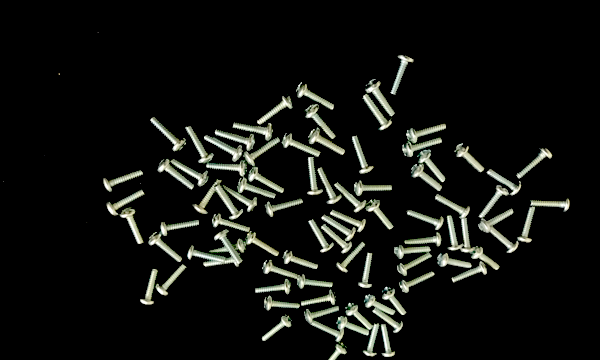shortscrew: (150, 117, 188, 152), (516, 145, 554, 179), (295, 81, 336, 112), (148, 229, 184, 264), (157, 158, 195, 191), (256, 94, 295, 126), (243, 135, 283, 166), (303, 103, 336, 140), (104, 189, 146, 218), (362, 94, 394, 132), (365, 78, 396, 117), (185, 126, 215, 166), (170, 159, 211, 188), (213, 184, 244, 221), (389, 52, 415, 96), (204, 134, 244, 162), (416, 148, 447, 184), (155, 263, 187, 297), (193, 178, 223, 214), (282, 131, 322, 158), (216, 125, 256, 152), (408, 163, 444, 193), (479, 184, 509, 220), (309, 127, 346, 156), (245, 229, 281, 258), (487, 169, 524, 197), (335, 242, 367, 274), (214, 227, 242, 263), (321, 214, 357, 242), (406, 121, 448, 145), (248, 167, 285, 194), (454, 141, 485, 173), (335, 182, 368, 212), (351, 134, 375, 175), (318, 167, 343, 206), (434, 193, 471, 219), (395, 251, 432, 277), (321, 225, 353, 255), (237, 176, 277, 200), (261, 314, 294, 343), (308, 218, 335, 253), (402, 136, 443, 159), (477, 209, 514, 234), (372, 307, 405, 335), (121, 206, 144, 246), (232, 120, 275, 141), (103, 170, 144, 192), (366, 199, 394, 231), (330, 210, 367, 234), (451, 260, 488, 284), (406, 208, 444, 231), (264, 197, 304, 218), (398, 272, 436, 294), (212, 213, 251, 234), (261, 259, 298, 281), (470, 244, 501, 270), (363, 293, 396, 317), (159, 218, 202, 236), (516, 207, 537, 243), (381, 287, 407, 316), (312, 321, 347, 342), (140, 268, 159, 306), (302, 288, 338, 308), (336, 316, 370, 337), (207, 160, 249, 177), (529, 196, 571, 213), (306, 157, 324, 196), (492, 228, 519, 254), (362, 322, 381, 358), (394, 242, 432, 260), (437, 251, 473, 270), (187, 245, 227, 262), (357, 252, 375, 289), (263, 295, 302, 312), (354, 179, 393, 196), (209, 238, 247, 255), (304, 305, 339, 323), (256, 279, 292, 296), (378, 325, 396, 358), (203, 253, 242, 267), (319, 342, 349, 360), (404, 234, 442, 248)
